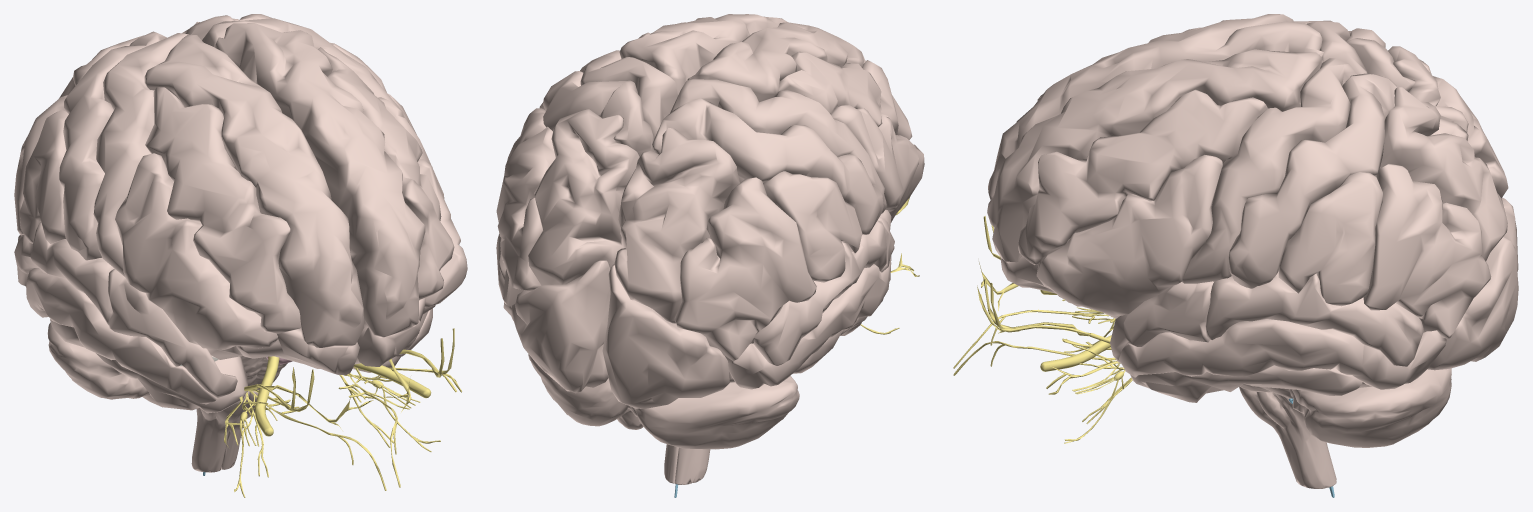
File: neuro.glb
The picture shows the model from 3 angles, left to right: view 1: azimuth 30°, elevation 25°; view 2: azimuth 150°, elevation 25°; view 3: azimuth 270°, elevation 25°; orthographic projection. The views are drawn at different scales.
Parts seen in each view (by area): view 1: superior_frontal_gyrus|-1|brain, superior_frontal_gyrus|1|brain, middle_frontal_gyrus|-1|brain, accessory_short_gyrus|-1|brain, precentral_gyrus|-1|brain, postcentral_gyrus|-1|brain, middle_temporal_gyrus|-1|brain, middle_frontal_gyrus|1|brain, anterior_part_of_superior_temporal_gyrus|-1|brain, orbital_gyri_straight_gyrus|0|brain, supramarginal_gyrus|-1|brain, posterior_part_of_superior_temporal_gyrus|-1|brain (+14 smaller); view 2: angular_gyrus|-1|brain, superior_parietal_lobule_precuneus|-1|brain, superior_parietal_lobule_precuneus|1|brain, cerebellum|0|brain, occipital_lobe|-1|brain, postcentral_gyrus|-1|brain, occipital_lobe|1|brain, superior_frontal_gyrus|-1|brain, supramarginal_gyrus|-1|brain, precentral_gyrus|-1|brain, angular_gyrus|1|brain, superior_frontal_gyrus|1|brain (+9 smaller); view 3: superior_frontal_gyrus|1|brain, middle_frontal_gyrus|1|brain, accessory_short_gyrus|1|brain, angular_gyrus|1|brain, middle_temporal_gyrus|1|brain, postcentral_gyrus|1|brain, precentral_gyrus|1|brain, superior_frontal_gyrus|-1|brain, supramarginal_gyrus|1|brain, superior_parietal_lobule_precuneus|1|brain, posterior_part_of_superior_temporal_gyrus|1|brain, cerebellum|0|brain (+10 smaller).
Part boxes in pixels (x1,y1,x2,y2): superior_frontal_gyrus|-1|brain: [144, 34, 364, 347]; superior_frontal_gyrus|1|brain: [215, 23, 425, 337]; middle_frontal_gyrus|-1|brain: [145, 87, 301, 333]; accessory_short_gyrus|-1|brain: [115, 153, 277, 349]; precentral_gyrus|-1|brain: [93, 33, 188, 277]; postcentral_gyrus|-1|brain: [59, 31, 166, 260]; middle_temporal_gyrus|-1|brain: [26, 268, 217, 404]; middle_frontal_gyrus|1|brain: [318, 47, 454, 299]; anterior_part_of_superior_temporal_gyrus|-1|brain: [108, 268, 237, 397]; orbital_gyri_straight_gyrus|0|brain: [207, 297, 435, 374]; supramarginal_gyrus|-1|brain: [19, 110, 68, 243]; posterior_part_of_superior_temporal_gyrus|-1|brain: [14, 222, 114, 325]; angular_gyrus|-1|brain: [674, 177, 816, 361]; superior_parietal_lobule_precuneus|-1|brain: [614, 128, 739, 323]; superior_parietal_lobule_precuneus|1|brain: [528, 109, 639, 285]; cerebellum|0|brain: [528, 354, 799, 449]; occipital_lobe|-1|brain: [602, 264, 729, 408]; postcentral_gyrus|-1|brain: [652, 98, 883, 234]; occipital_lobe|1|brain: [511, 260, 610, 393]; superior_frontal_gyrus|-1|brain: [687, 22, 865, 102]; supramarginal_gyrus|-1|brain: [763, 171, 862, 282]; precentral_gyrus|-1|brain: [670, 79, 886, 213]; angular_gyrus|1|brain: [496, 126, 555, 306]; superior_frontal_gyrus|1|brain: [619, 14, 787, 95]; superior_frontal_gyrus|1|brain: [987, 49, 1323, 262]; middle_frontal_gyrus|1|brain: [1018, 89, 1267, 264]; accessory_short_gyrus|1|brain: [1036, 155, 1223, 315]; angular_gyrus|1|brain: [1363, 163, 1491, 338]; middle_temporal_gyrus|1|brain: [1119, 319, 1446, 389]; postcentral_gyrus|1|brain: [1228, 73, 1397, 288]; precentral_gyrus|1|brain: [1182, 58, 1356, 283]; superior_frontal_gyrus|-1|brain: [988, 14, 1323, 199]; supramarginal_gyrus|1|brain: [1278, 172, 1382, 306]; superior_parietal_lobule_precuneus|1|brain: [1375, 87, 1507, 261]; posterior_part_of_superior_temporal_gyrus|1|brain: [1205, 271, 1423, 366]; cerebellum|0|brain: [1290, 368, 1451, 447].
Size of the model in its own units: 0.1334 by 0.1622 by 0.1809.
